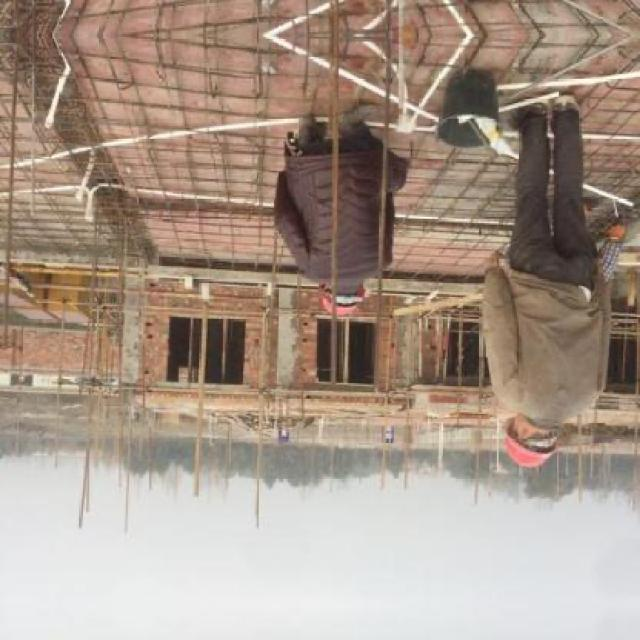con casco: (470, 407, 597, 486), (298, 278, 399, 345)
